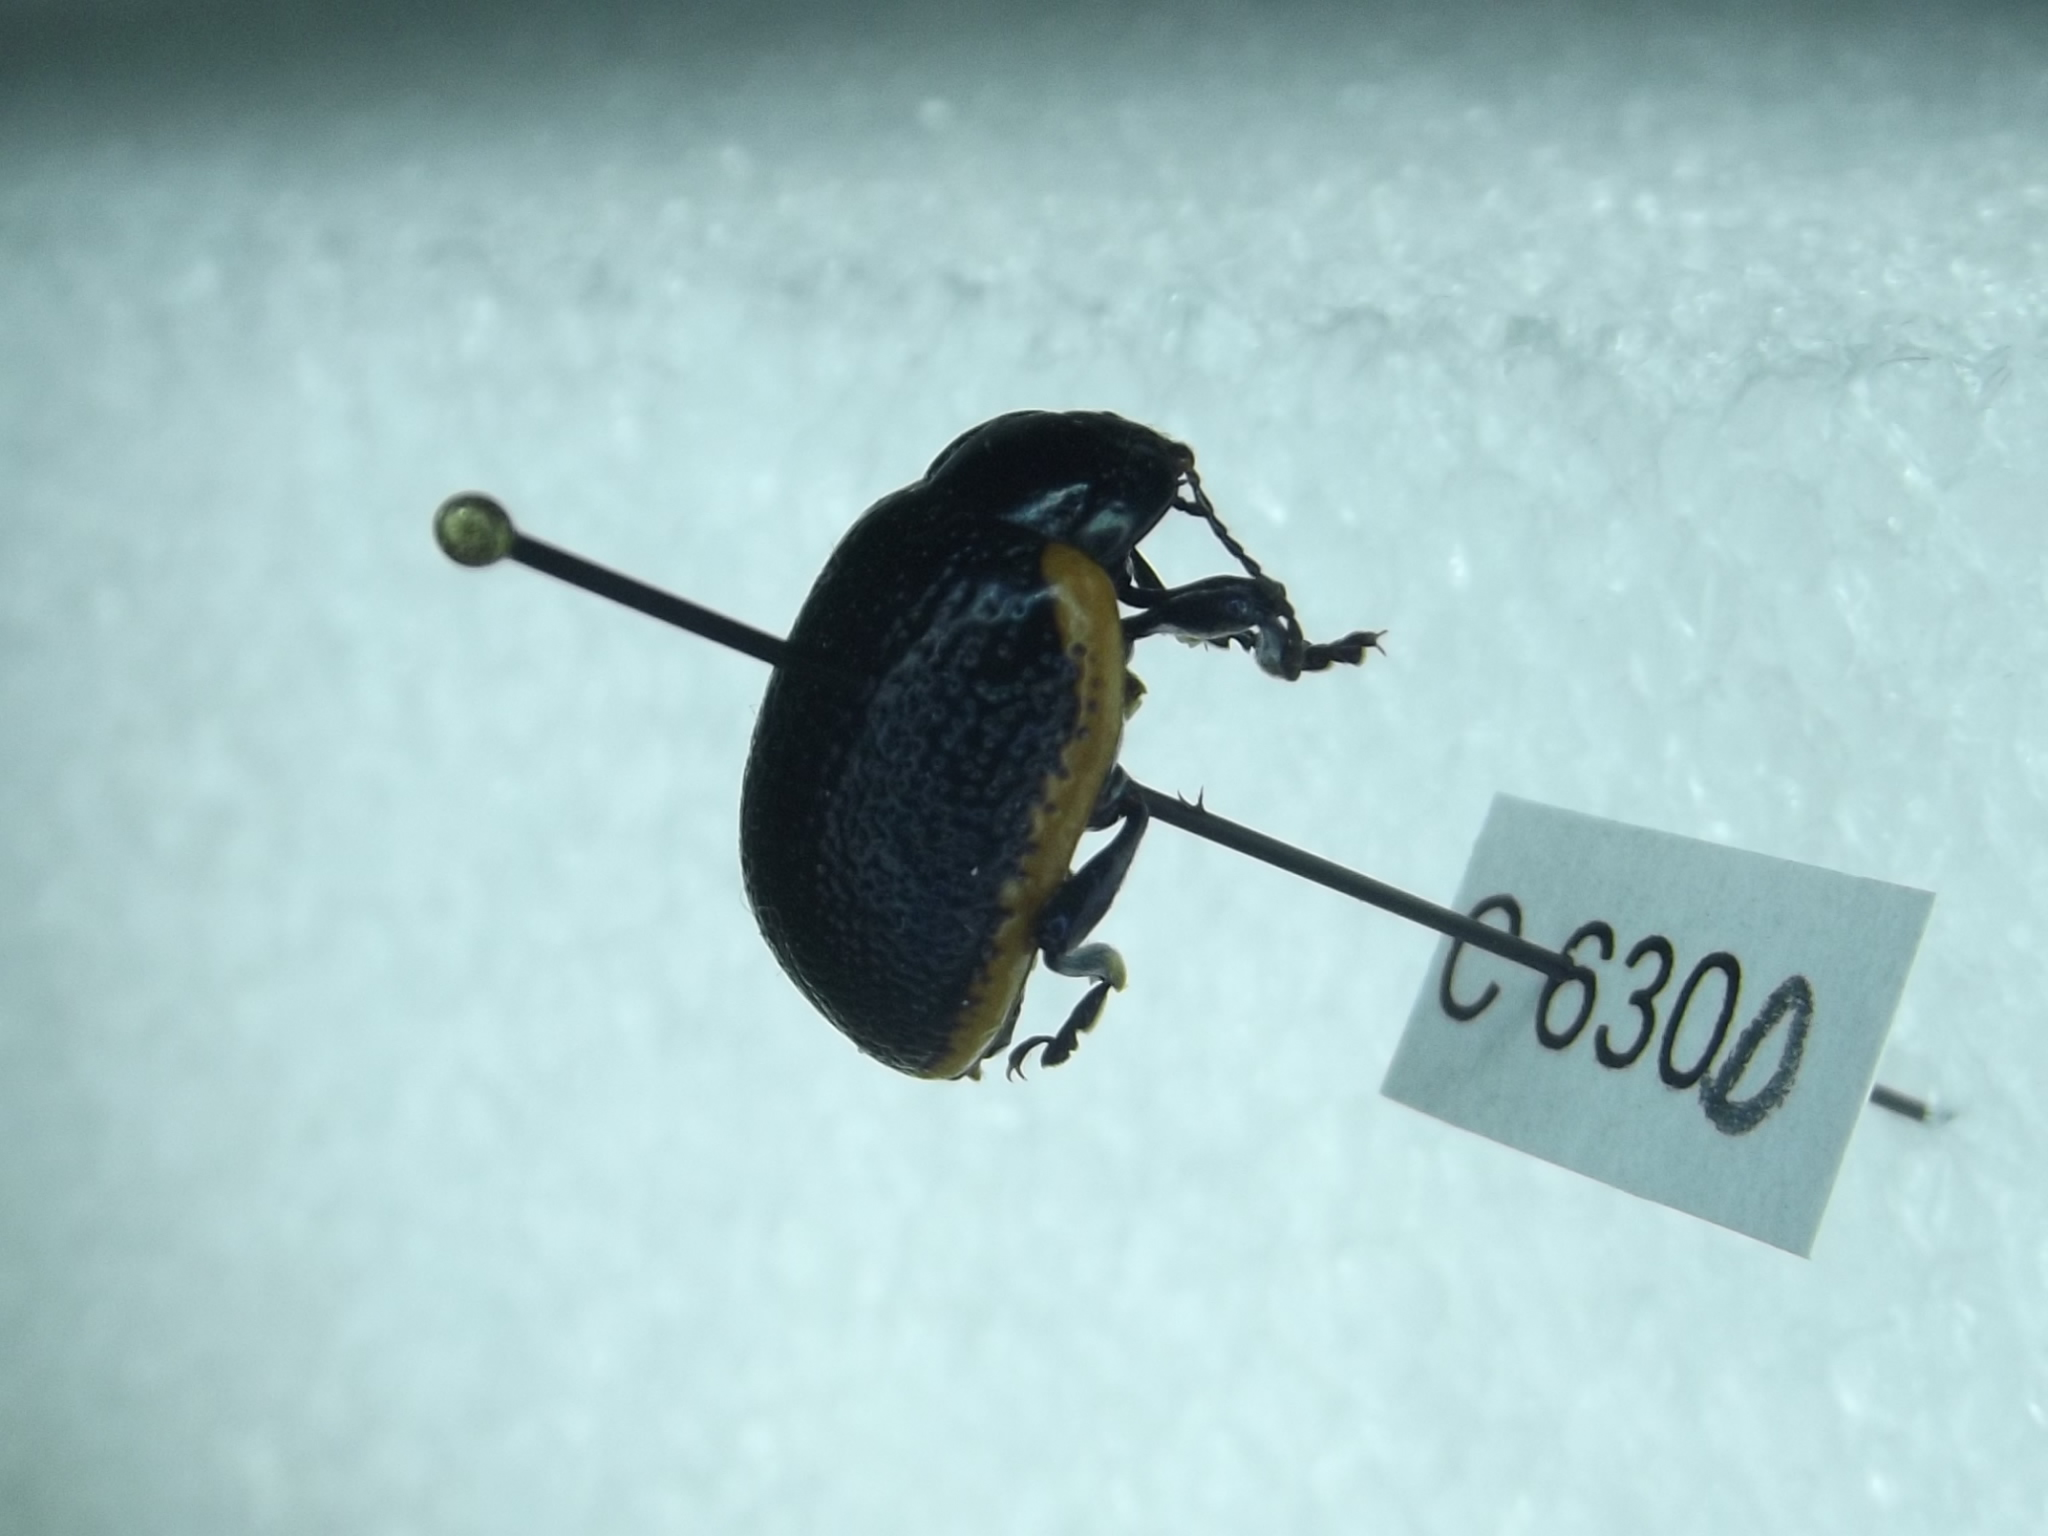Chrysolina_gypsophila: (735, 402, 1393, 1096)
